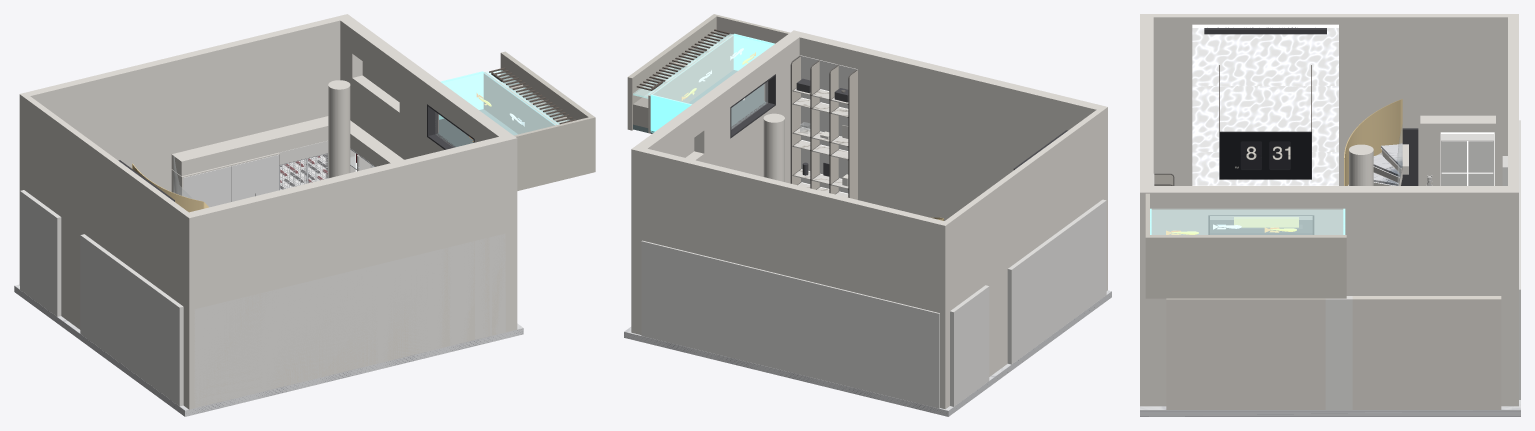
The picture shows the model from 3 angles, left to right: view 1: azimuth 30°, elevation 25°; view 2: azimuth 150°, elevation 25°; view 3: azimuth 270°, elevation 25°; orthographic projection. The views are drawn at different scales.
Parts seen in each view (by area): view 1: B2_Walls_Manifold_Batch_M3, B2_Walls_Manifold_Batch_M1, B2_FishPond_Batch_M38, B2_UnderMezz_Batch_M3, B2_FishPond_Batch_M41, B2_Floor_Batch_M0, B2_B1_Batch_M3, B2_FishPond_Batch_M39, B2_Mirror_Door_Panel_4, B2_Mirror_Door_Panel_3, B2_FishPond_Batch_M15, B2_Mirror_Door_Panel_2 (+10 smaller); view 2: B2_Walls_Manifold_Batch_M3, B2_Walls_Manifold_Batch_M1, B2_FishPond_Batch_M38, B2_FishPond_Batch_M41, B2_TallCab_Batch_M34, B2_Floor_Batch_M0, B2_TallCab_Batch_M10, B2_TallCab_Batch_M36, B2_FishPond_Batch_M39, B2_B1_Batch_M3, B2_TallCab_Batch_M33, B2_FishPond_Batch_M40 (+5 smaller); view 3: B2_Walls_Manifold_Batch_M3, B2_Walls_Manifold_Batch_M2, B2_TV_Batch_M11, B2_FishPond_Batch_M38, B2_FishPond_Batch_M41, B2_TV_Batch_M14, B2_Walls_Manifold_Batch_M1, B2_Floor_Batch_M0, B2_Entry_Batch_M3, B2_GrandStair_Batch_M6, B2_East_Batch_M31, B2_B1_Batch_M3 (+11 smaller).
Boxes of the visible parts, x1=… form: B2_Walls_Manifold_Batch_M3: x1=19, y1=14, x2=517, y2=409; B2_Walls_Manifold_Batch_M1: x1=20, y1=190, x2=505, y2=407; B2_FishPond_Batch_M38: x1=484, y1=51, x2=595, y2=190; B2_UnderMezz_Batch_M3: x1=171, y1=116, x2=403, y2=176; B2_FishPond_Batch_M41: x1=441, y1=70, x2=569, y2=135; B2_Floor_Batch_M0: x1=14, y1=284, x2=523, y2=416; B2_B1_Batch_M3: x1=328, y1=80, x2=350, y2=178; B2_FishPond_Batch_M39: x1=439, y1=71, x2=483, y2=119; B2_Mirror_Door_Panel_4: x1=255, y1=155, x2=279, y2=195; B2_Mirror_Door_Panel_3: x1=231, y1=160, x2=255, y2=201; B2_FishPond_Batch_M15: x1=489, y1=67, x2=575, y2=124; B2_Mirror_Door_Panel_2: x1=207, y1=166, x2=230, y2=207; B2_Walls_Manifold_Batch_M3: x1=631, y1=30, x2=1107, y2=409; B2_Walls_Manifold_Batch_M1: x1=641, y1=199, x2=1106, y2=408; B2_FishPond_Batch_M38: x1=627, y1=14, x2=789, y2=133; B2_FishPond_Batch_M41: x1=633, y1=32, x2=773, y2=104; B2_TallCab_Batch_M34: x1=792, y1=56, x2=857, y2=199; B2_Floor_Batch_M0: x1=624, y1=290, x2=1111, y2=416; B2_TallCab_Batch_M10: x1=800, y1=55, x2=857, y2=193; B2_TallCab_Batch_M36: x1=793, y1=88, x2=848, y2=197; B2_FishPond_Batch_M39: x1=650, y1=33, x2=774, y2=132; B2_B1_Batch_M3: x1=763, y1=113, x2=784, y2=181; B2_TallCab_Batch_M33: x1=790, y1=55, x2=857, y2=197; B2_FishPond_Batch_M40: x1=633, y1=70, x2=765, y2=133; B2_Walls_Manifold_Batch_M3: x1=1140, y1=14, x2=1518, y2=406; B2_Walls_Manifold_Batch_M2: x1=1166, y1=296, x2=1501, y2=409; B2_TV_Batch_M11: x1=1192, y1=24, x2=1338, y2=185; B2_FishPond_Batch_M38: x1=1145, y1=193, x2=1346, y2=298; B2_FishPond_Batch_M41: x1=1150, y1=209, x2=1344, y2=234; B2_TV_Batch_M14: x1=1220, y1=132, x2=1311, y2=178; B2_Walls_Manifold_Batch_M1: x1=1325, y1=120, x2=1520, y2=409; B2_Floor_Batch_M0: x1=1140, y1=400, x2=1520, y2=416; B2_Entry_Batch_M3: x1=1420, y1=115, x2=1495, y2=185; B2_GrandStair_Batch_M6: x1=1344, y1=99, x2=1402, y2=185; B2_East_Batch_M31: x1=1210, y1=216, x2=1311, y2=234; B2_B1_Batch_M3: x1=1349, y1=144, x2=1373, y2=185.
Size of the model in its own units: 10.27 by 4.7 by 7.35.
Materials: 49 (7 with a texture image).
